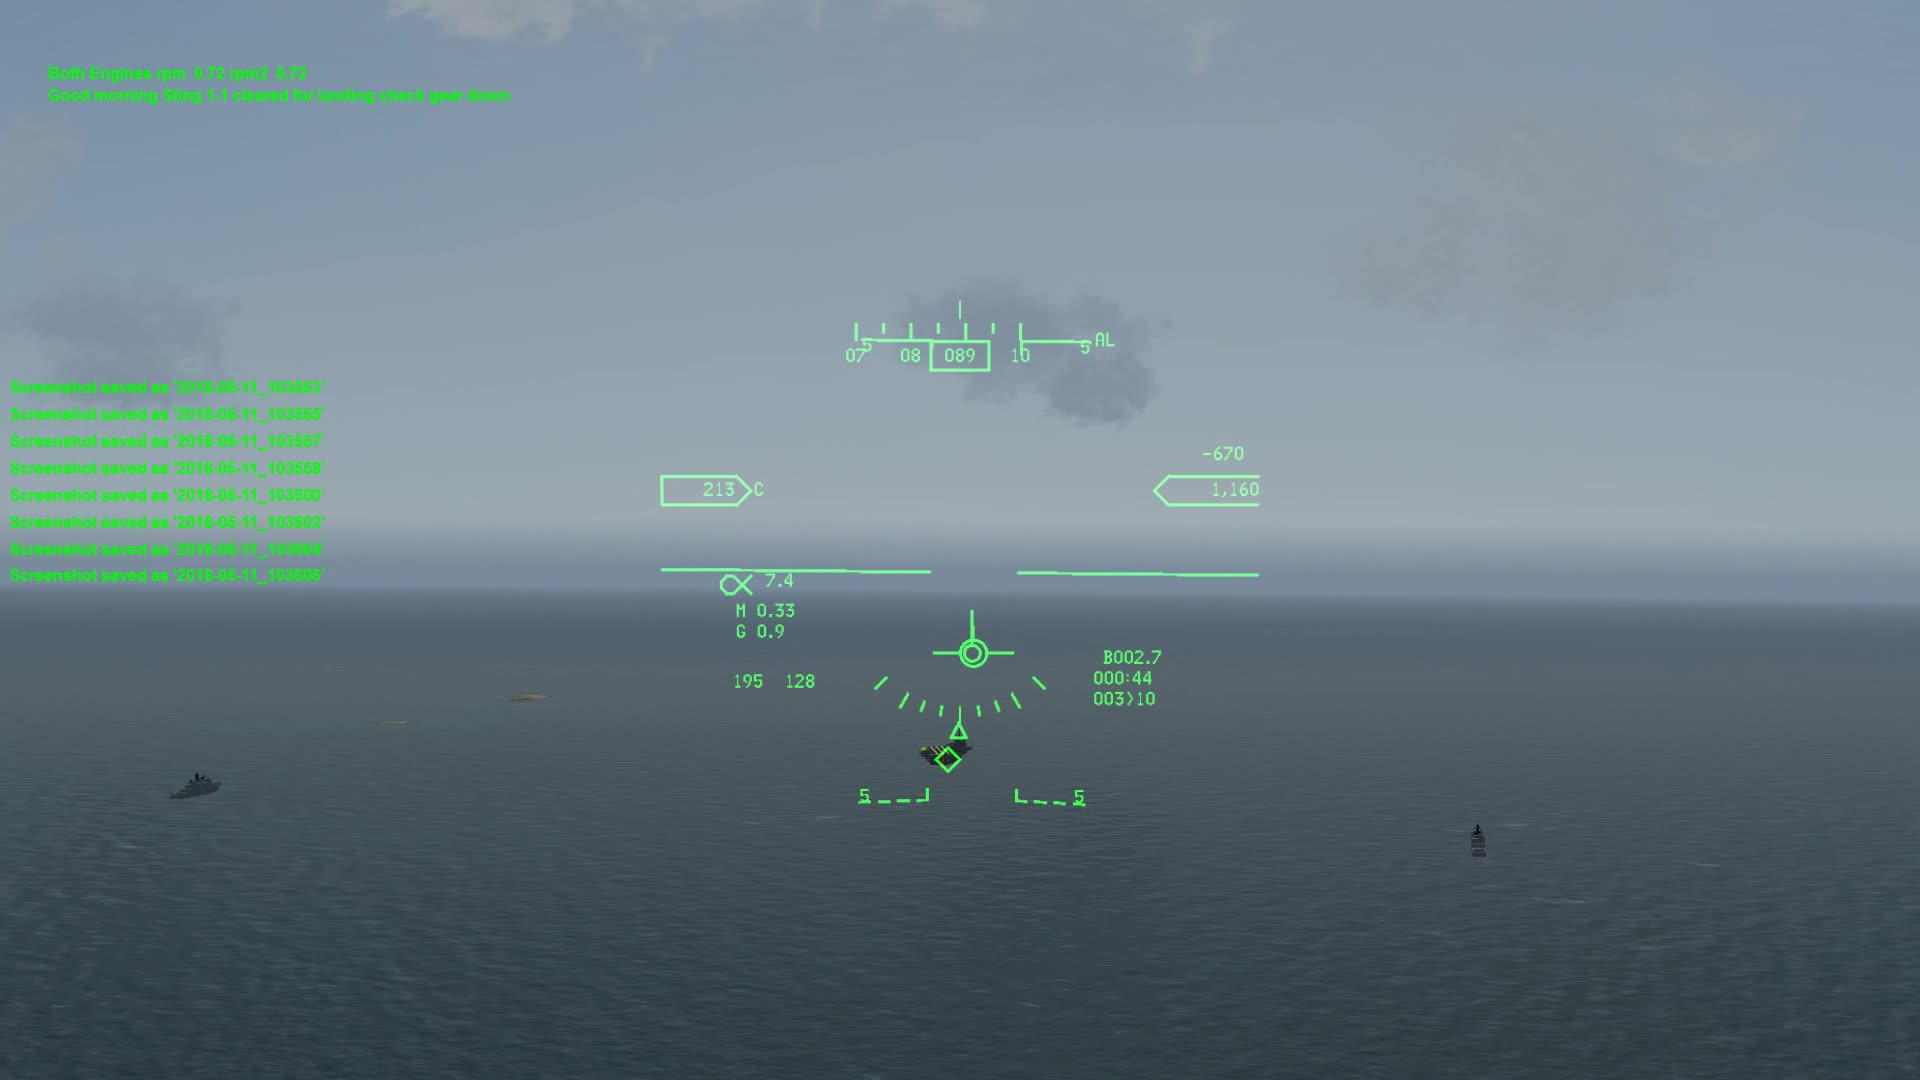speed vector: (920, 609, 1021, 674)
